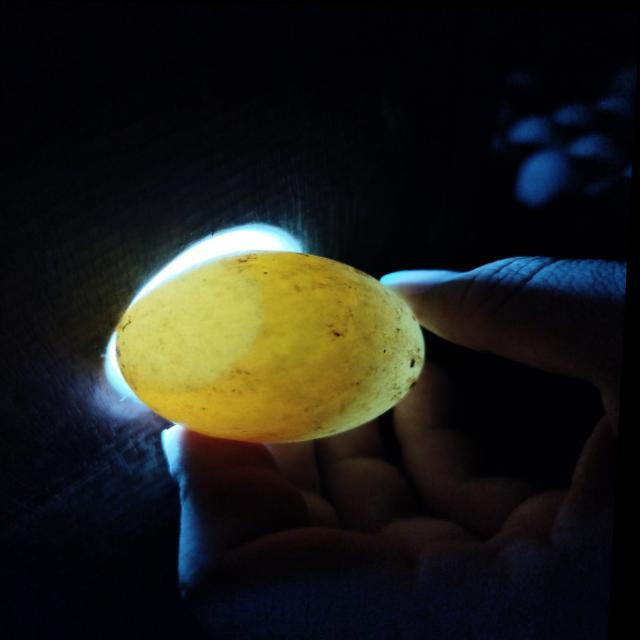Camara de Ar: (119, 259, 267, 390)
